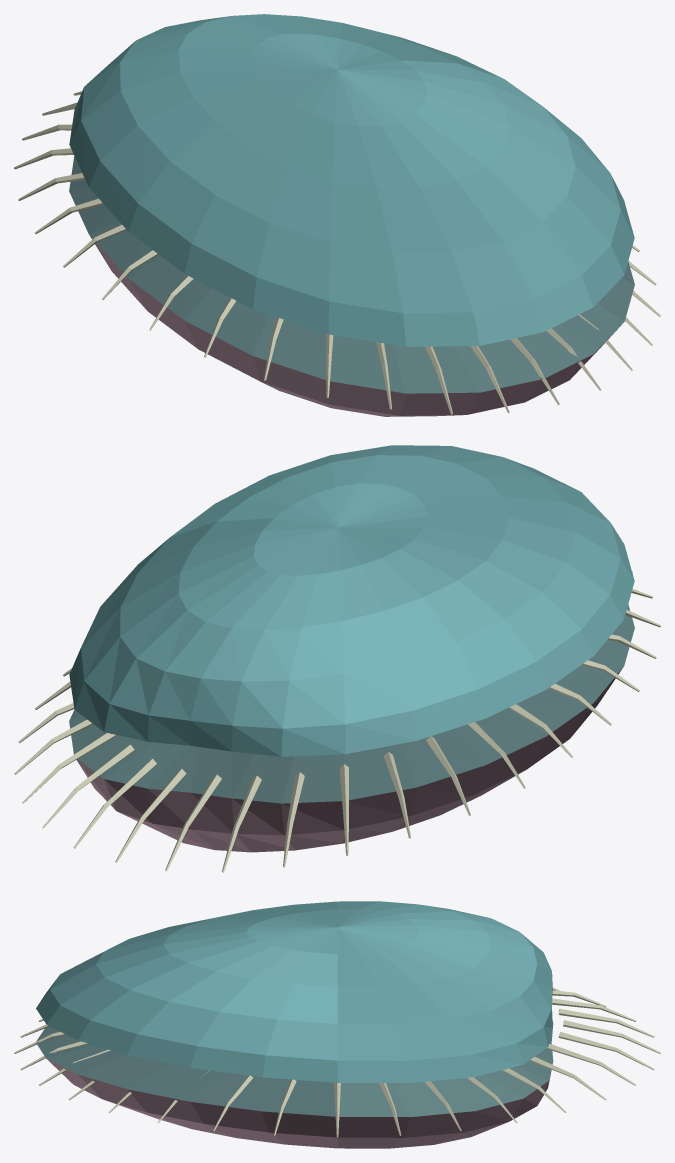
The model's file is MicroalgalGrazer.gltf.
3 renders of one model, top to bottom at view 1: azimuth 30°, elevation 25°; view 2: azimuth 150°, elevation 25°; view 3: azimuth 270°, elevation 25°, orthographic. The views are drawn at different scales.
Visible parts, largest first — view 1: MicroalgalGrazer; view 2: MicroalgalGrazer; view 3: MicroalgalGrazer.
Boxes of the visible parts, x1,y1,x2,y2 form: MicroalgalGrazer: (14, 14, 660, 416); MicroalgalGrazer: (14, 445, 660, 872); MicroalgalGrazer: (14, 901, 660, 1148).
Bounding box in the file's own units: 2.03 × 1.1 × 3.3.
